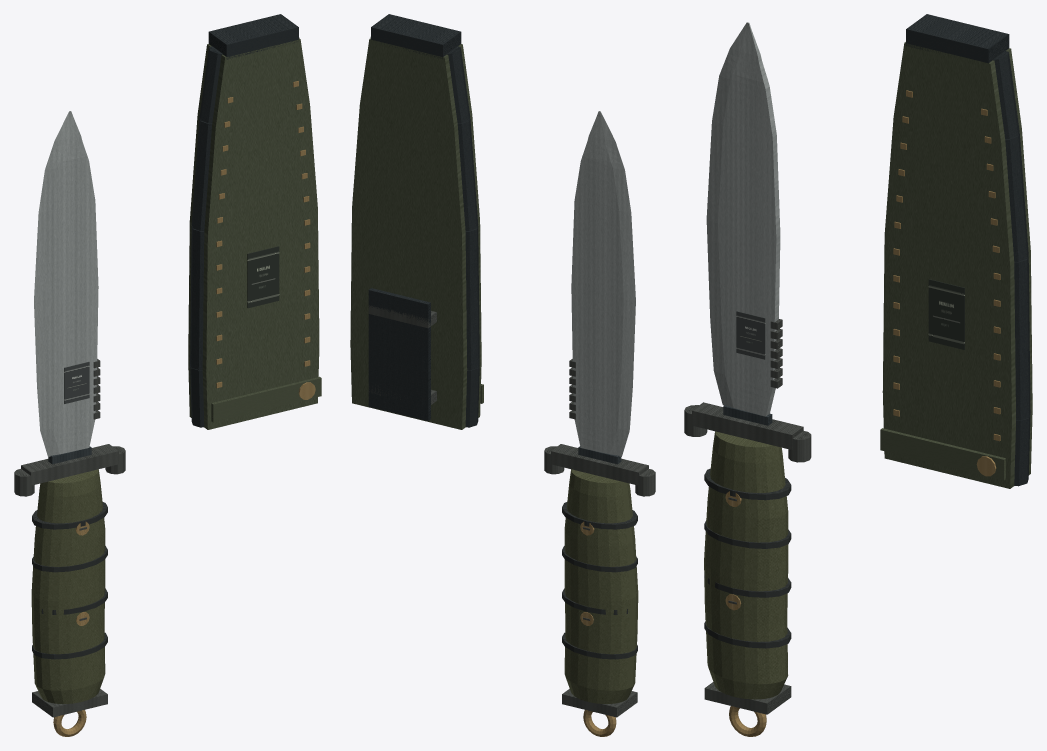
The model's file is PZ_SurvivalKnife.glb.
3 views of the same model, side by side, from view 1: azimuth 30°, elevation 25°; view 2: azimuth 150°, elevation 25°; view 3: azimuth 330°, elevation 25° (orthographic). The views are drawn at different scales.
Parts seen in each view (by area): view 1: Knife_Sheath_FrontPanel, Knife_Blade_DropPoint_Main, Knife_Grip_Molded_Micarta, Knife_Sheath_TipCap, Knife_Sheath_RetentionStrap, Knife_Sheath_EdgePiping_L_2, Knife_Guard_Crosspiece, Knife_Sheath_BrandPlate, Knife_Sheath_EdgePiping_L_3, Knife_Sheath_EdgePiping_L_4, Knife_Sheath_RearPanel, Knife_Brand_Plate (+3 smaller); view 2: Knife_Sheath_RearPanel, Knife_Blade_DropPoint_Main, Knife_Grip_Molded_Micarta, Knife_Sheath_BeltLoop_Back, Knife_Sheath_TipCap, Knife_Sheath_EdgePiping_L_2, Knife_Guard_Crosspiece, Knife_Sheath_EdgePiping_L_3, Knife_Sheath_EdgePiping_L_4, Knife_Sheath_FrontPanel, Knife_Pommel_Plate, Knife_Sheath_EdgePiping_L_1 (+2 smaller); view 3: Knife_Sheath_FrontPanel, Knife_Blade_DropPoint_Main, Knife_Grip_Molded_Micarta, Knife_Sheath_TipCap, Knife_Sheath_RetentionStrap, Knife_Sheath_EdgePiping_R_2, Knife_Guard_Crosspiece, Knife_Sheath_BrandPlate, Knife_Sheath_EdgePiping_R_3, Knife_Sheath_EdgePiping_R_4, Knife_Sheath_RearPanel, Knife_Brand_Plate (+8 smaller).
Boxes of the visible parts, box(x1,y1,x2,y2) form: Knife_Sheath_FrontPanel: box(202, 38, 319, 429); Knife_Blade_DropPoint_Main: box(34, 111, 98, 456); Knife_Grip_Molded_Micarta: box(31, 469, 105, 703); Knife_Sheath_TipCap: box(208, 14, 298, 59); Knife_Sheath_RetentionStrap: box(211, 376, 321, 422); Knife_Sheath_EdgePiping_L_2: box(190, 225, 204, 369); Knife_Guard_Crosspiece: box(21, 444, 118, 485); Knife_Sheath_BrandPlate: box(247, 246, 279, 308); Knife_Sheath_EdgePiping_L_3: box(191, 118, 212, 230); Knife_Sheath_EdgePiping_L_4: box(199, 46, 222, 123); Knife_Sheath_RearPanel: box(188, 44, 211, 417); Knife_Brand_Plate: box(64, 362, 89, 403); Knife_Sheath_RearPanel: box(350, 38, 467, 429); Knife_Blade_DropPoint_Main: box(571, 111, 635, 456); Knife_Grip_Molded_Micarta: box(564, 469, 638, 703); Knife_Sheath_BeltLoop_Back: box(368, 288, 430, 420); Knife_Sheath_TipCap: box(371, 14, 461, 58); Knife_Sheath_EdgePiping_L_2: box(465, 225, 479, 369); Knife_Guard_Crosspiece: box(551, 444, 648, 485); Knife_Sheath_EdgePiping_L_3: box(457, 117, 478, 230); Knife_Sheath_EdgePiping_L_4: box(446, 46, 470, 123); Knife_Sheath_FrontPanel: box(458, 44, 481, 417); Knife_Pommel_Plate: box(562, 689, 637, 717); Knife_Sheath_EdgePiping_L_1: box(465, 365, 479, 427); Knife_Sheath_FrontPanel: box(882, 42, 1015, 488); Knife_Blade_DropPoint_Main: box(706, 22, 780, 416); Knife_Grip_Molded_Micarta: box(704, 431, 788, 699); Knife_Sheath_TipCap: box(906, 14, 1009, 63); Knife_Sheath_RetentionStrap: box(880, 428, 1005, 480); Knife_Sheath_EdgePiping_R_2: box(1014, 255, 1030, 420); Knife_Guard_Crosspiece: box(692, 402, 803, 449); Knife_Sheath_BrandPlate: box(928, 279, 964, 349); Knife_Sheath_EdgePiping_R_3: box(1005, 132, 1028, 261); Knife_Sheath_EdgePiping_R_4: box(993, 51, 1019, 139); Knife_Sheath_RearPanel: box(1006, 48, 1032, 474); Knife_Brand_Plate: box(736, 311, 765, 359).
Size of the model in its own units: 0.1914 by 0.4027 by 0.0355.
Materials: 10 (10 with a texture image).
